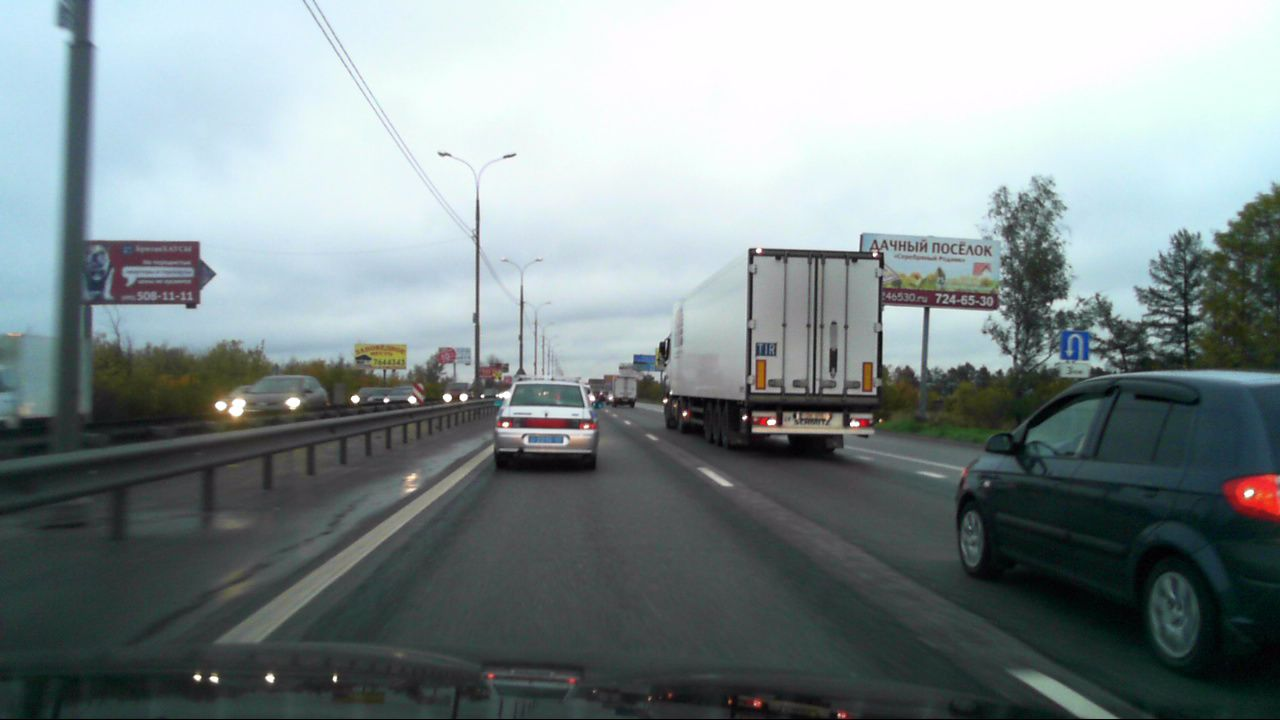U-turn: (1061, 330, 1089, 361)
